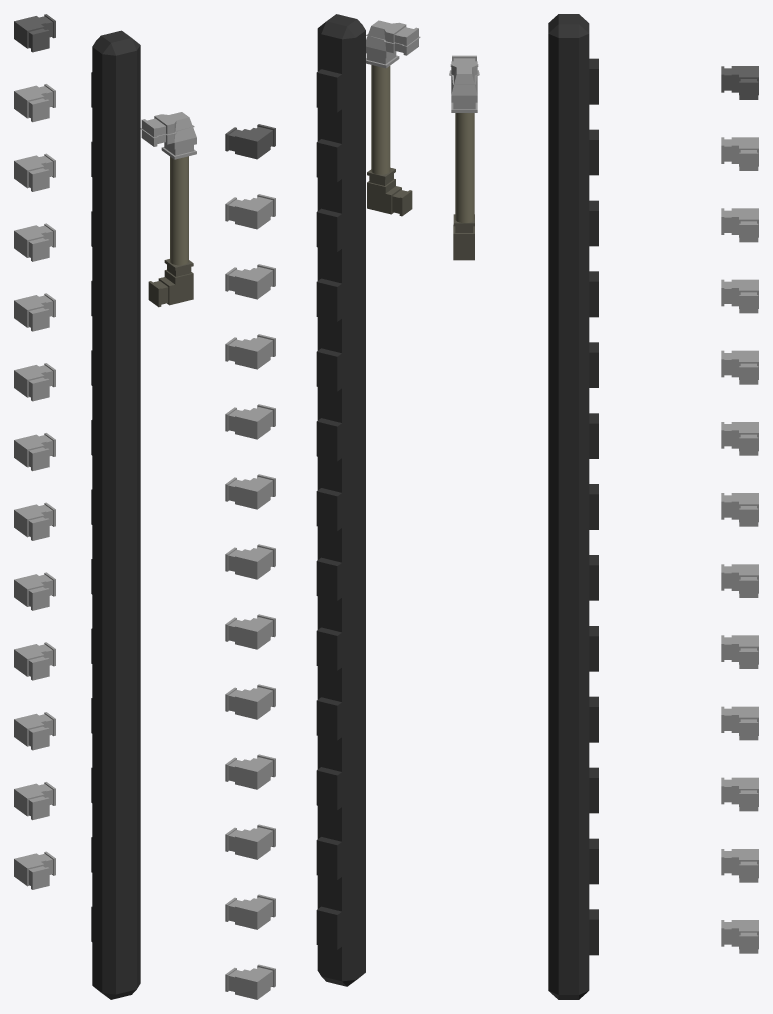
Rendered from Ladders_UVd.fbx.
3 renders of one model, left to right at view 1: azimuth 30°, elevation 25°; view 2: azimuth 150°, elevation 25°; view 3: azimuth 270°, elevation 25°, orthographic.
Parts seen in each view (by area): view 1: pasted__ladderPostRE, pasted__pCube1 (×14), pasted__pCylinder2, pasted__pCube4; view 2: pasted__ladderPostRE, pasted__pCube1 (×14), pasted__pCylinder2, pasted__pCube4; view 3: pasted__ladderPostRE, pasted__pCube1 (×14), pasted__pCylinder2, pasted__pCube4.
Part boxes in pixels (box(x1,y1,x2,y2)): pasted__ladderPostRE: box(91, 30, 140, 999); pasted__pCube1 (×14): box(14, 14, 193, 889); pasted__pCylinder2: box(170, 156, 188, 265); pasted__pCube4: box(140, 112, 196, 159); pasted__ladderPostRE: box(316, 14, 365, 986); pasted__pCube1 (×14): box(225, 124, 412, 999); pasted__pCylinder2: box(371, 65, 390, 174); pasted__pCube4: box(366, 20, 420, 68); pasted__ladderPostRE: box(548, 14, 598, 999); pasted__pCube1 (×14): box(453, 66, 758, 953); pasted__pCylinder2: box(455, 113, 474, 223); pasted__pCube4: box(449, 55, 479, 112).
Bounding box in the file's own units: 3.17 × 66.16 × 19.03.
